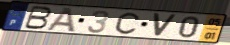0: (177, 16, 202, 39)
3: (87, 10, 110, 34)
A: (45, 7, 77, 33)
B: (22, 5, 53, 31)
C: (114, 12, 141, 36)
V: (152, 12, 179, 38)
